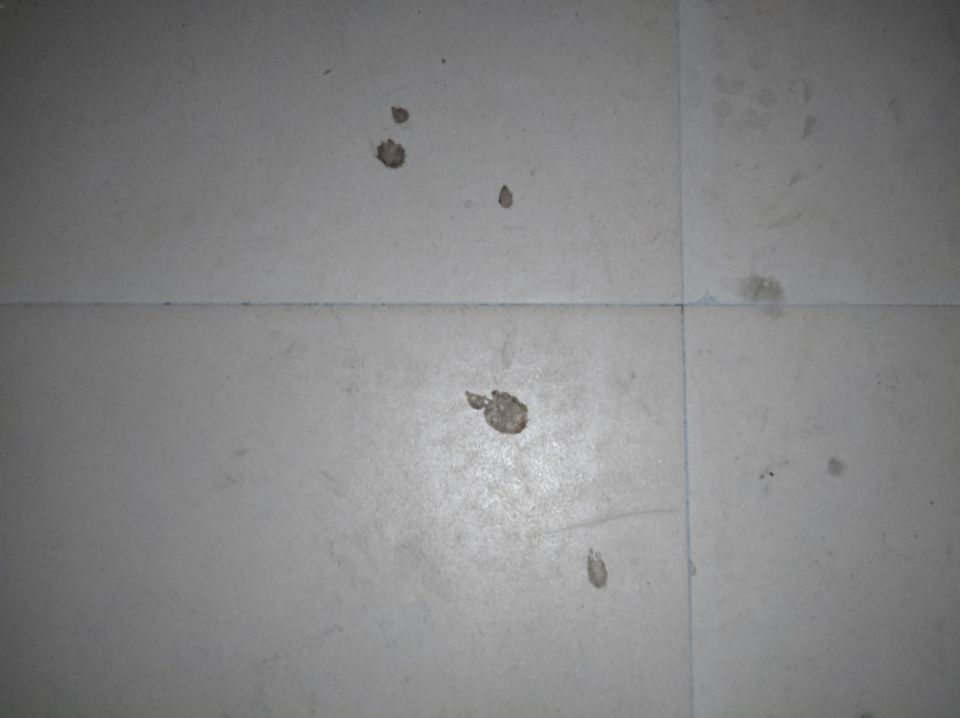grey spot: (464, 389, 528, 435), (376, 137, 406, 168), (588, 547, 608, 587), (497, 184, 514, 207), (390, 106, 408, 123)
